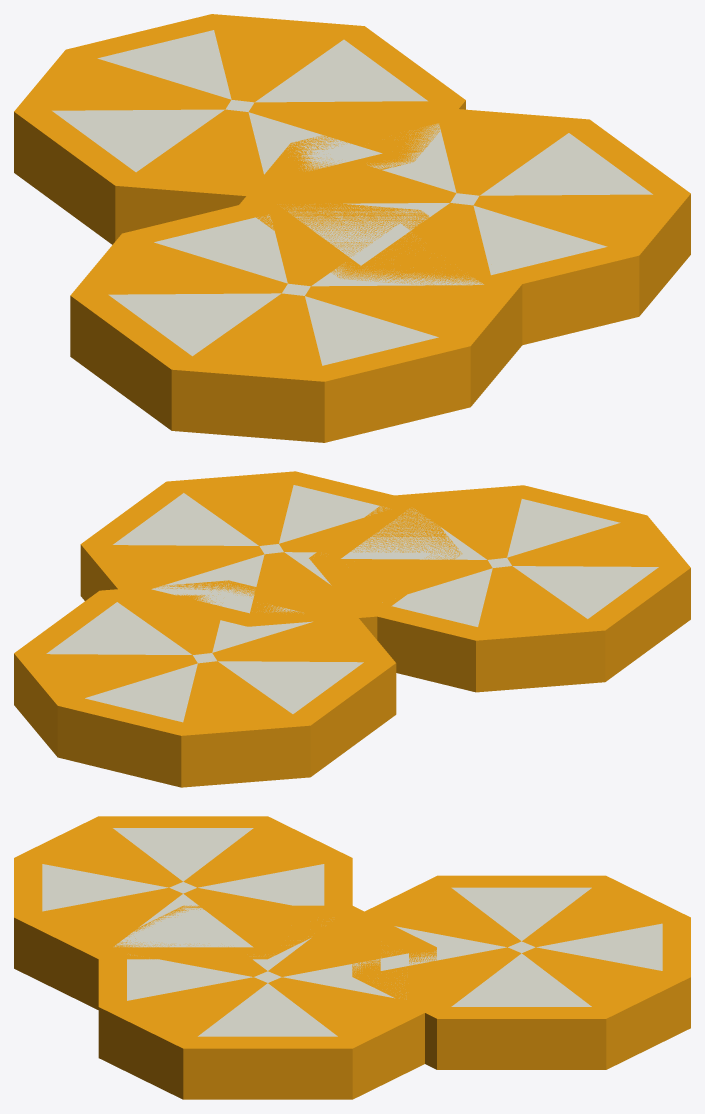
Rendered from inv_orange_slices.obj.
3 views of the same model, one above another, from view 1: azimuth 30°, elevation 25°; view 2: azimuth 150°, elevation 25°; view 3: azimuth 270°, elevation 25° (orthographic). The views are drawn at different scales.
Bounding box in the file's own units: 0.3047 × 0.0312 × 0.375.
